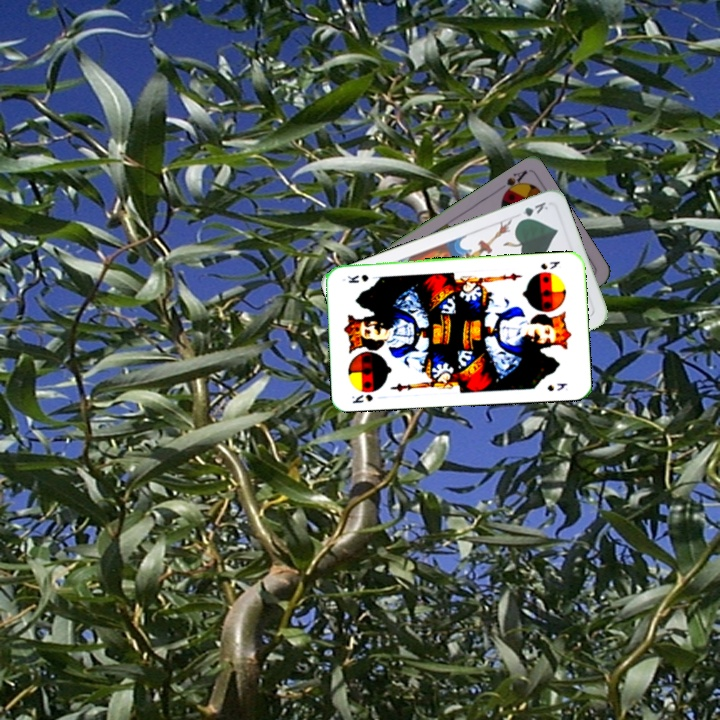GK: (514, 198, 551, 224)
SA: (498, 166, 530, 199)
SK: (348, 390, 375, 406), (537, 257, 562, 272)
